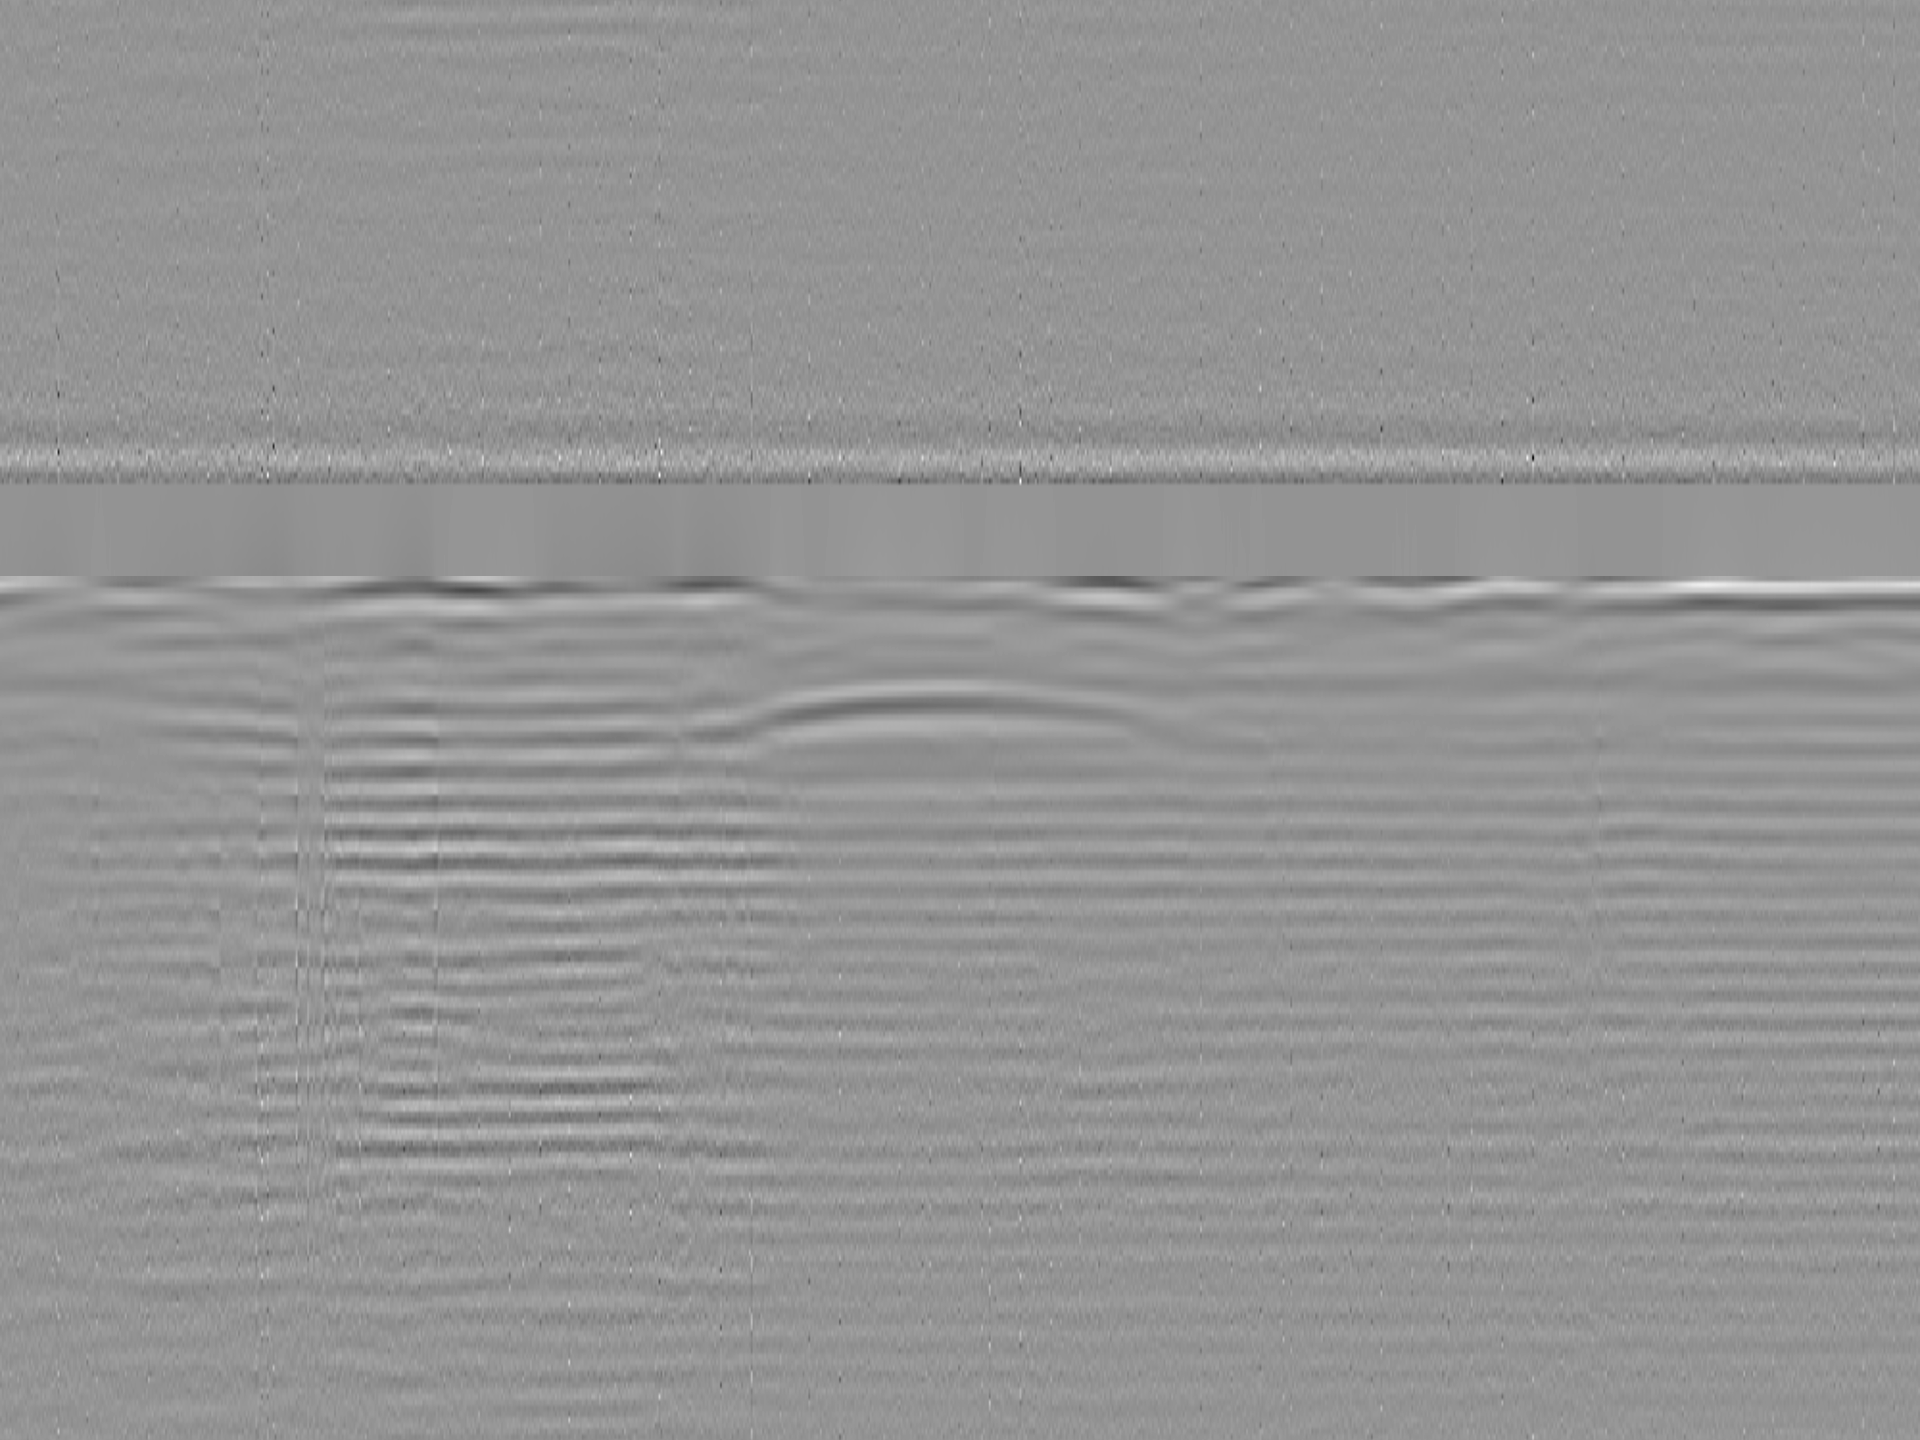Tunnel: (692, 679, 1285, 761)
